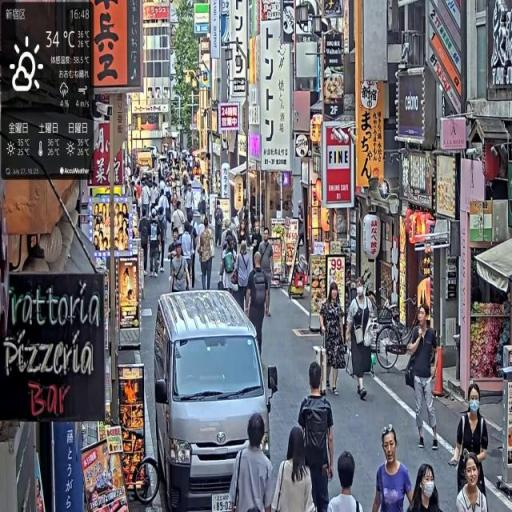person: (404, 302, 444, 452), (298, 362, 336, 512), (226, 410, 273, 512), (452, 383, 491, 496), (272, 425, 318, 512), (371, 423, 414, 512), (319, 281, 348, 397), (348, 280, 375, 403), (246, 254, 271, 357), (327, 451, 364, 512), (408, 463, 446, 512), (457, 456, 490, 512), (260, 228, 277, 317), (198, 219, 215, 293), (220, 235, 239, 296), (170, 244, 193, 292), (139, 208, 153, 277)
